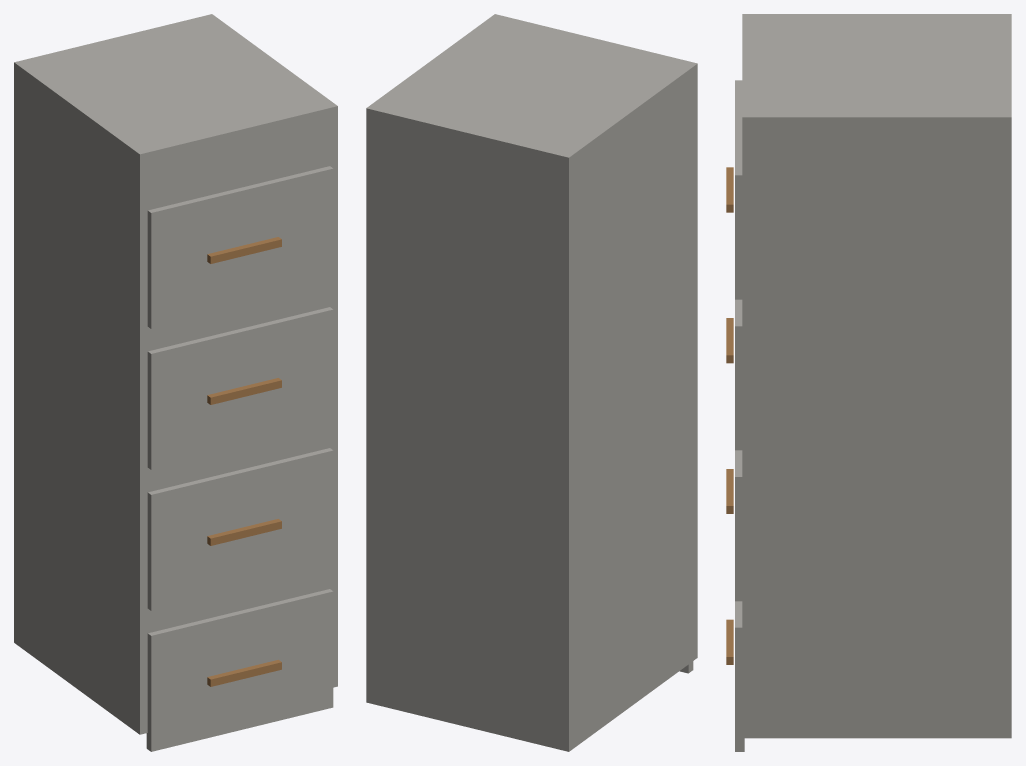
Rendered from prop_file_cabinet.fbx.
The picture shows the model from 3 angles, left to right: view 1: azimuth 30°, elevation 25°; view 2: azimuth 150°, elevation 25°; view 3: azimuth 270°, elevation 25°; orthographic projection. The views are drawn at different scales.
Visible parts, largest first — view 1: FC_Body, FC_Drawer3, FC_Drawer2, FC_Drawer1, FC_Drawer0, FC_Handle3, FC_Handle0, FC_Handle1, FC_Handle2; view 2: FC_Body; view 3: FC_Body, FC_Drawer0, FC_Drawer3, FC_Drawer2, FC_Drawer1.
Part boxes in pixels (x1,y1,x2,y2): FC_Body: (14,14,337,734); FC_Drawer3: (146,589,333,751); FC_Drawer2: (147,448,333,610); FC_Drawer1: (147,307,333,469); FC_Drawer0: (147,166,333,328); FC_Handle3: (207,659,281,686); FC_Handle0: (207,237,281,263); FC_Handle1: (207,378,281,404); FC_Handle2: (207,519,281,545); FC_Body: (366,14,697,751); FC_Body: (742,14,1011,738); FC_Drawer0: (735,80,742,299); FC_Drawer3: (735,601,744,751); FC_Drawer2: (735,450,742,601); FC_Drawer1: (735,299,742,450).
Size of the model in its own units: 50 by 144 by 58.25.
